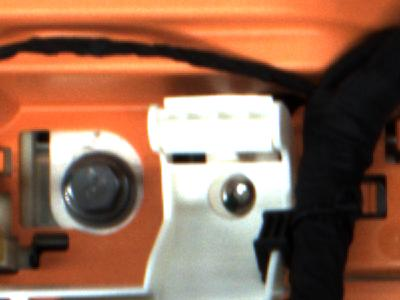nut_b: (58, 145, 143, 234)
